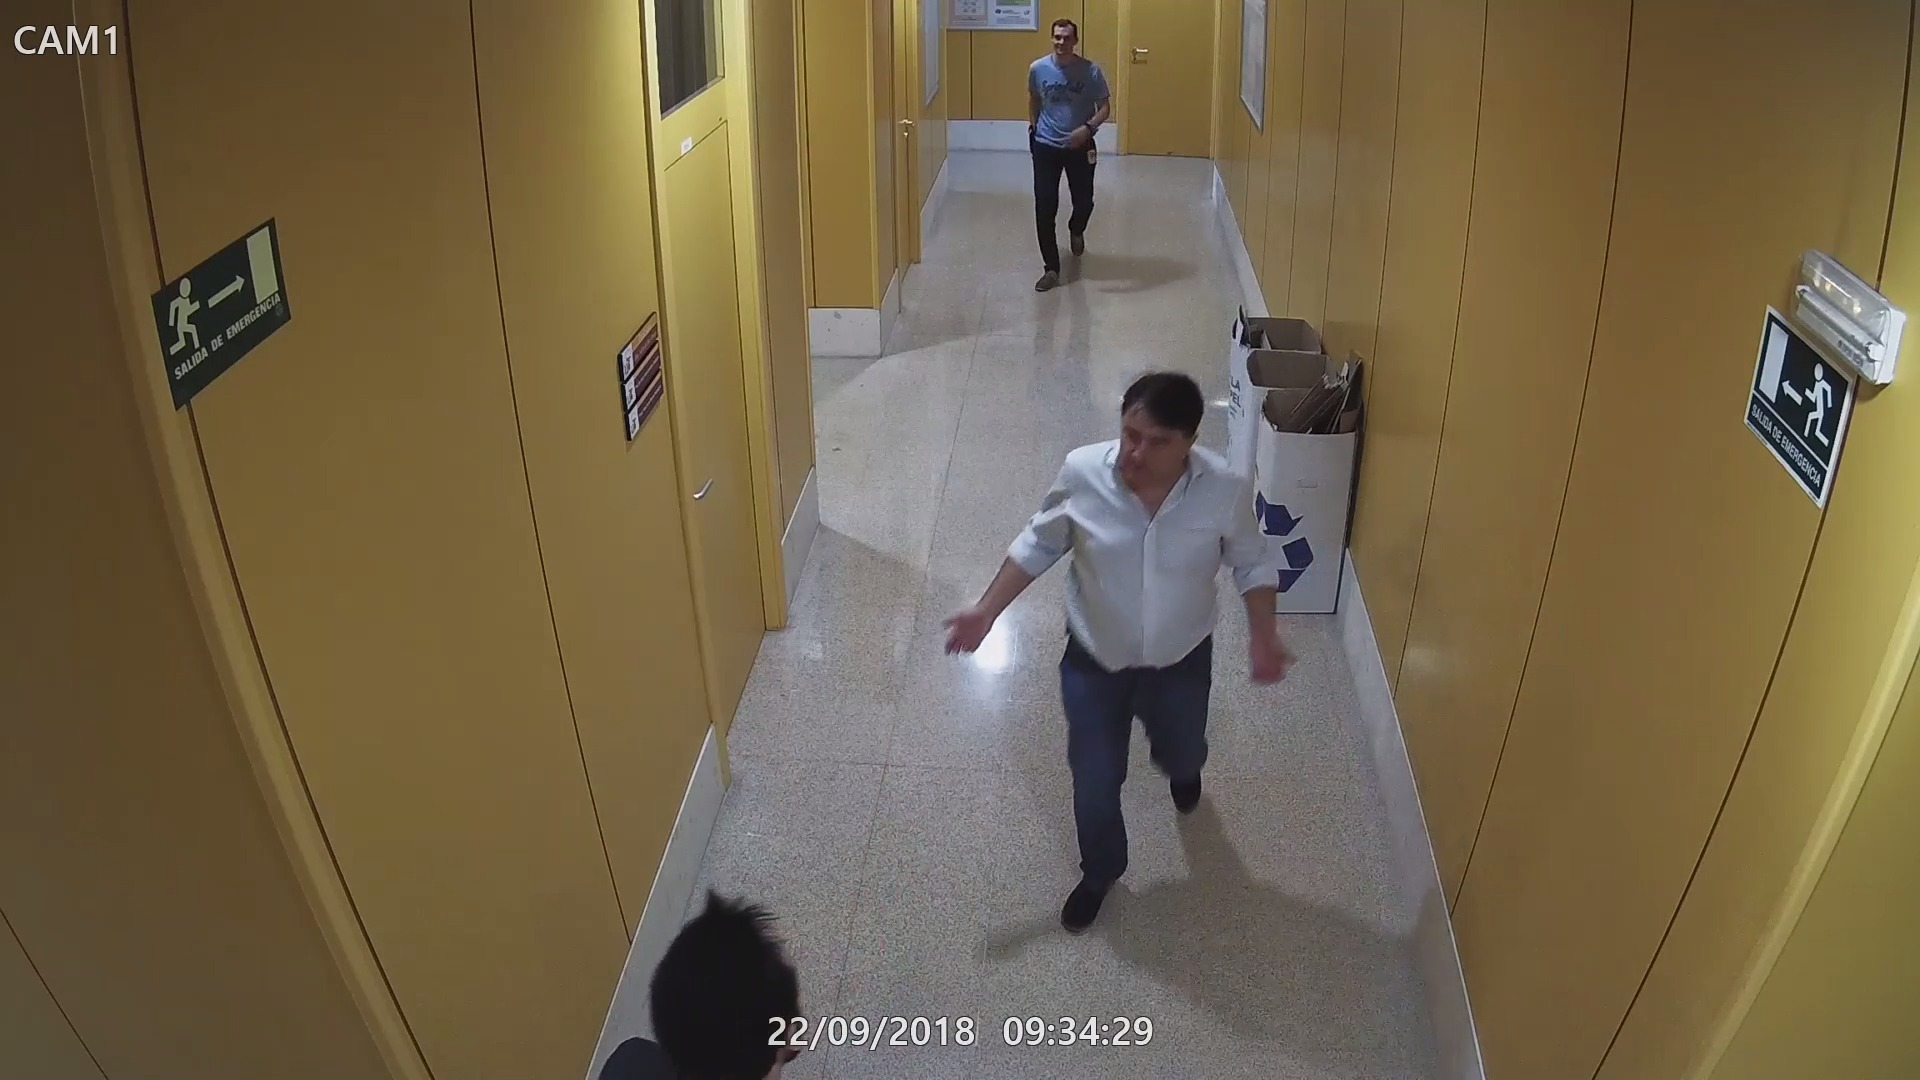pistol: (1022, 123, 1036, 145)
